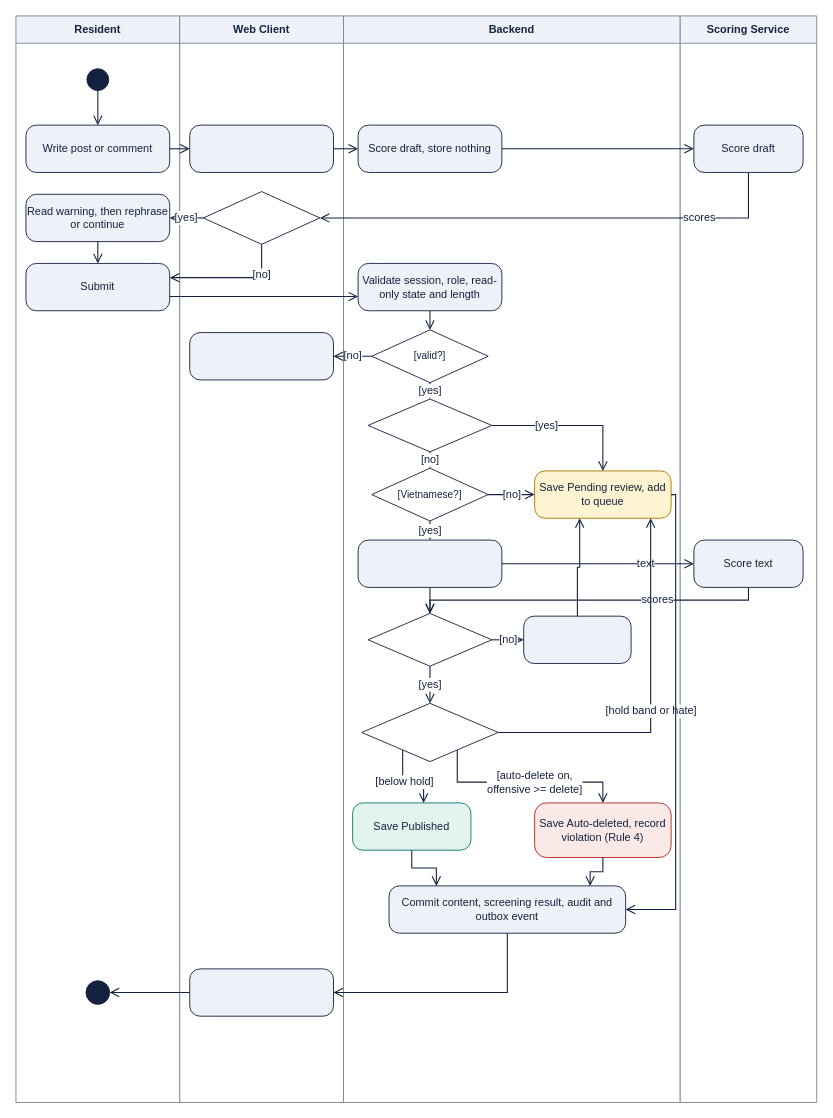
This 833x1118 diagram has some shape labels left out. Here are the shapes that lost their labels. From the top down, the centre of each, then its label:
At point 261,148: "Check blocklist; request a draft check after a typing pause".
At point 261,217: "[may violate?]".
At point 261,356: "Show error and keep the draft".
At point 429,425: "[blocklist match?]".
At point 429,563: "Call model, timeout under 200 ms".
At point 429,639: "[answer in time?]".
At point 577,639: "Apply outage policy".
At point 429,732: "[channel thresholds]".
At point 261,992: "Show the status and any message".
